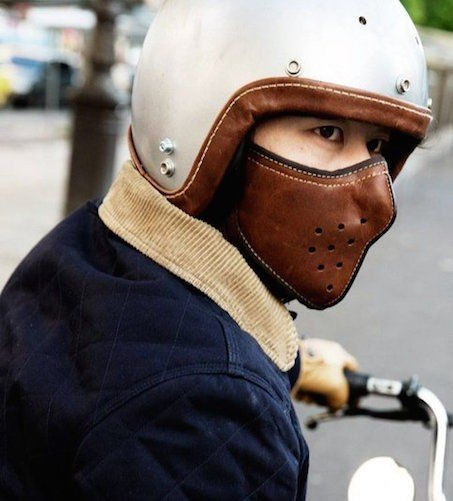with_mask: (221, 88, 410, 318)
